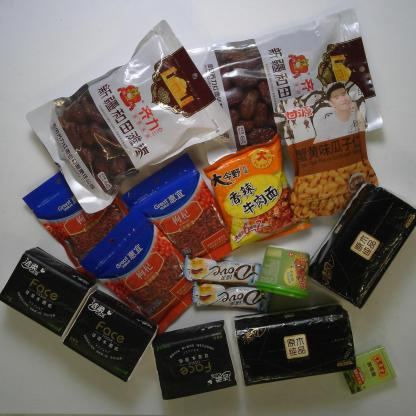Candy: (342, 343, 398, 396)
Chocolate: (191, 280, 272, 314), (183, 254, 262, 288)
Dried Food: (24, 18, 233, 215), (184, 7, 386, 166)
Dried Fruit: (78, 203, 194, 335), (273, 80, 380, 219), (119, 150, 233, 262), (21, 170, 130, 281)
Instant Drink: (254, 243, 312, 301)
Instant Noodles: (202, 130, 313, 252)
Tissue: (308, 180, 416, 310), (233, 301, 358, 388), (62, 288, 160, 384), (0, 245, 98, 338), (151, 318, 239, 402)
